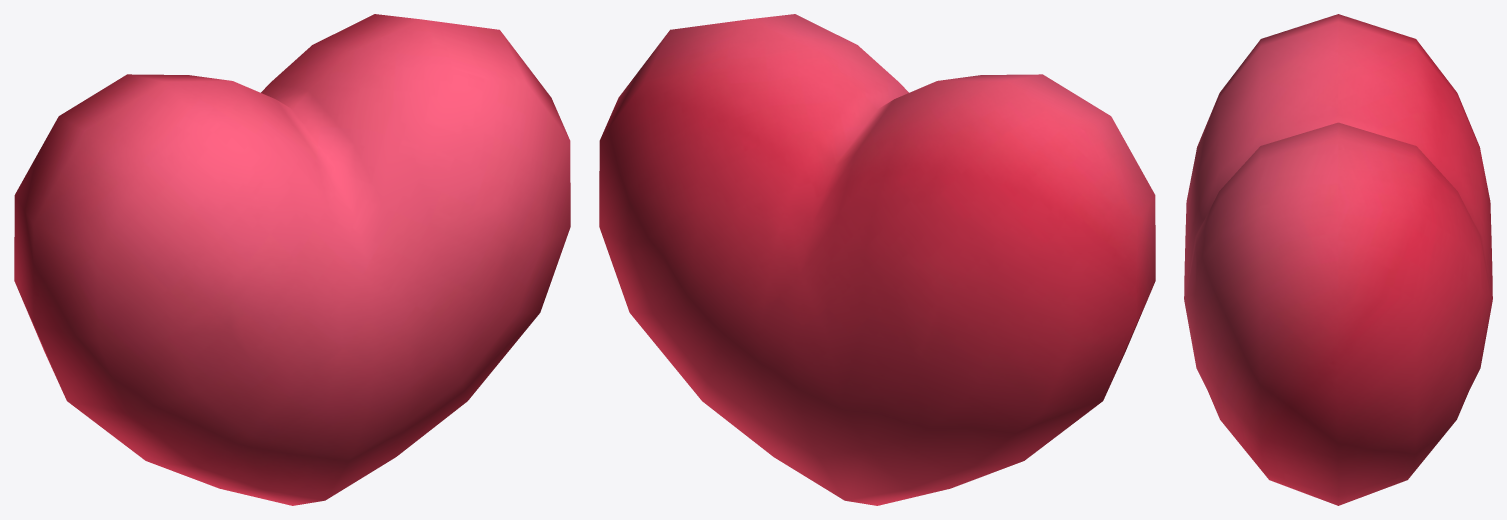
The model's file is puffy-heart.glb.
The picture shows the model from 3 angles, left to right: view 1: azimuth 30°, elevation 25°; view 2: azimuth 150°, elevation 25°; view 3: azimuth 270°, elevation 25°; orthographic projection. The views are drawn at different scales.
Bounding box in the file's own units: 1 × 0.84 × 0.5532.
Materials: 1 (1 with a texture image).
